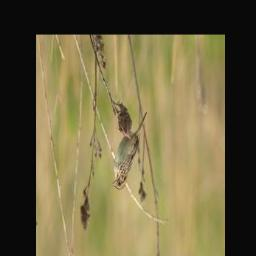Sparrow: (111, 113, 149, 192)
